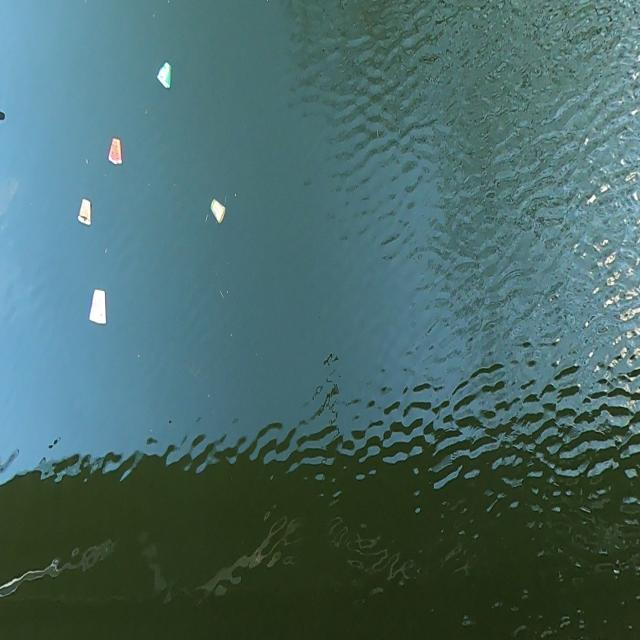Non plastique: (87, 282, 112, 334), (104, 133, 128, 173), (76, 195, 97, 232), (210, 196, 232, 230), (156, 58, 175, 95)
